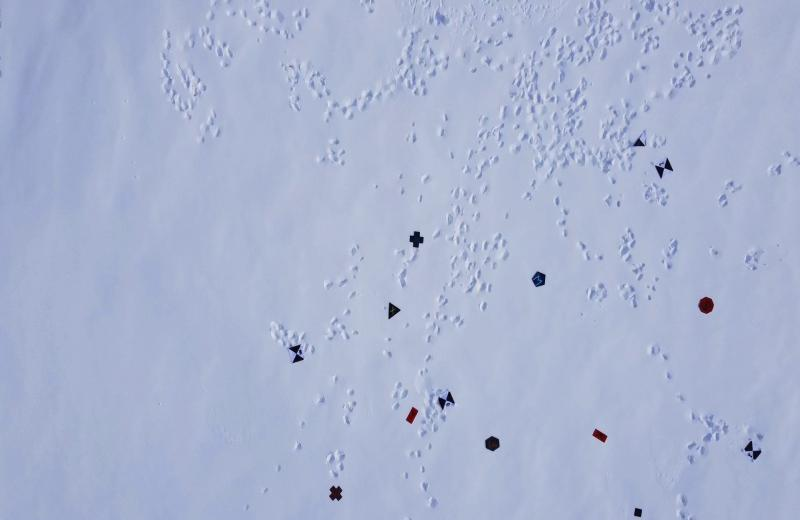Cross: (328, 483, 345, 502), (409, 230, 425, 250)
Hexagon: (483, 434, 501, 452)
Octagon: (697, 295, 715, 317)
Pentagon: (531, 269, 547, 288)
Rectangle: (590, 426, 609, 447), (403, 405, 421, 426)
Square: (633, 505, 644, 520)
Triangle: (384, 302, 403, 321)
